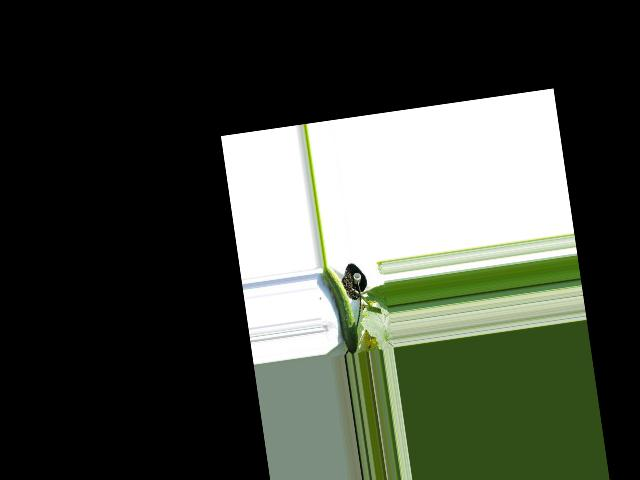cucumber: (321, 261, 359, 356)
